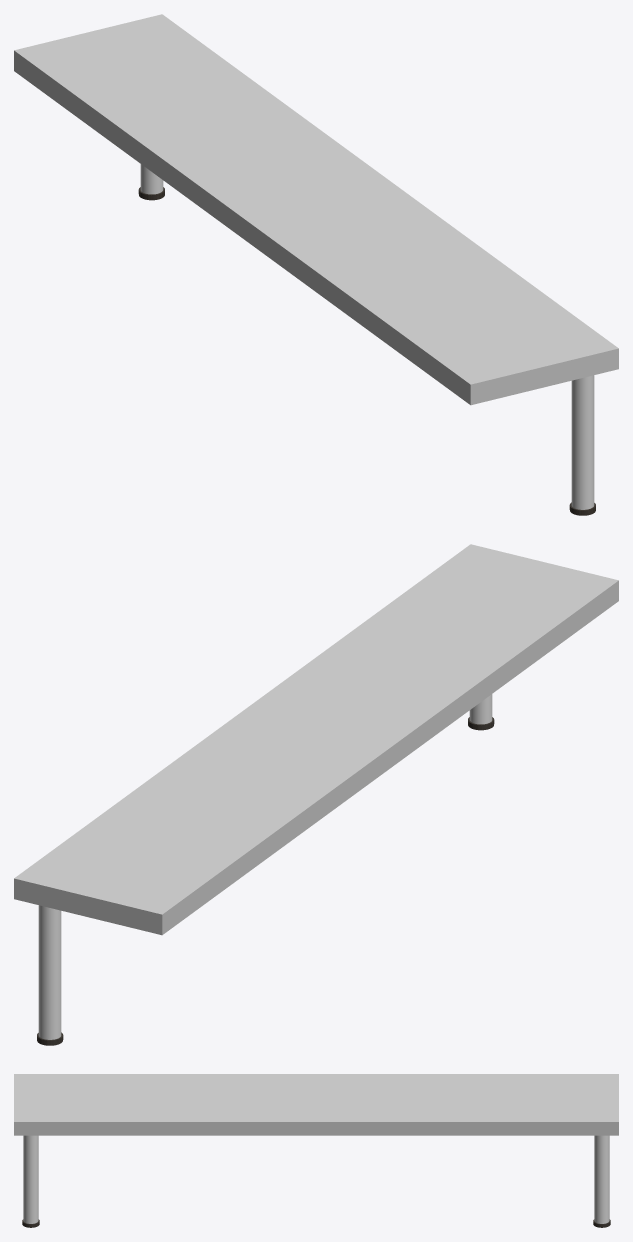
The model's file is MesaCocina.fbx.
The picture shows the model from 3 angles, top to bottom: view 1: azimuth 30°, elevation 25°; view 2: azimuth 150°, elevation 25°; view 3: azimuth 270°, elevation 25°; orthographic projection. The views are drawn at different scales.
Parts seen in each view (by area): view 1: Cylinder.001; view 2: Cylinder.001; view 3: Cylinder.001.
Boxes of the visible parts, x1,y1,x2,y2 form: Cylinder.001: [14, 14, 618, 515]; Cylinder.001: [14, 544, 618, 1045]; Cylinder.001: [14, 1074, 618, 1227].
Size of the model in its own units: 150 by 160 by 800.
3 materials, 1 textured.
